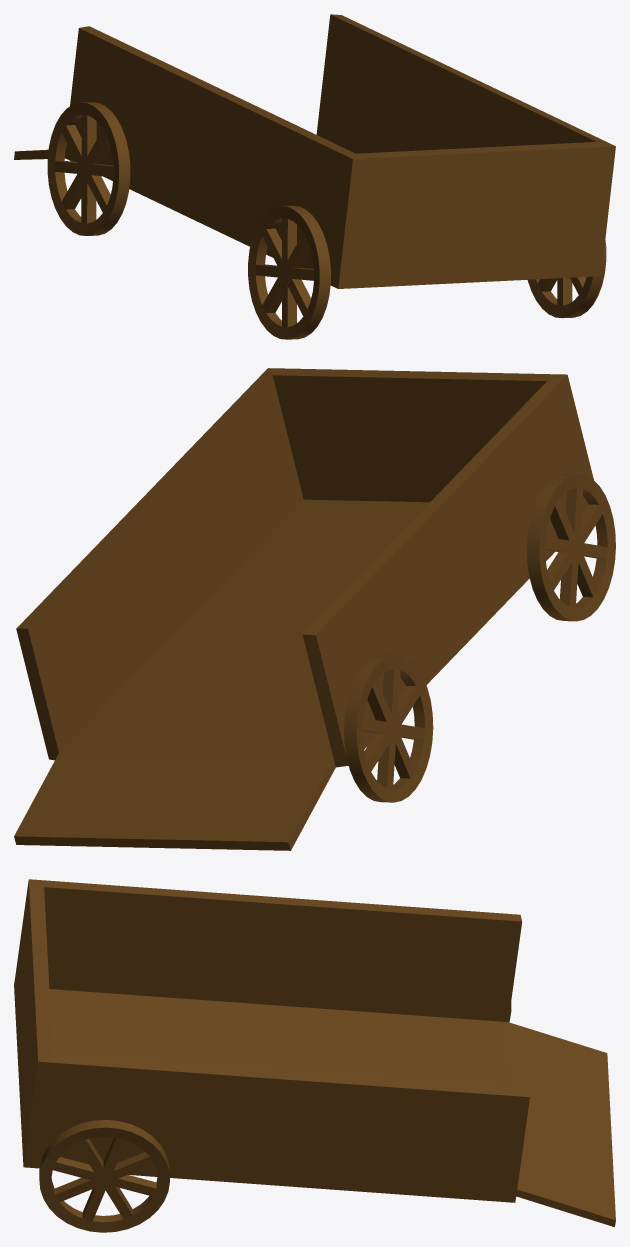
The model's file is TL_Cart_Broken.fbx.
The picture shows the model from 3 angles, top to bottom: view 1: azimuth 30°, elevation 25°; view 2: azimuth 150°, elevation 25°; view 3: azimuth 270°, elevation 25°; orthographic projection. The views are drawn at different scales.
Visible parts, largest first — view 1: Cart_Broken; view 2: Cart_Broken; view 3: Cart_Broken.
Boxes of the visible parts, left/top/right/bottom form: Cart_Broken: left=14, top=14, right=615, bottom=339; Cart_Broken: left=14, top=368, right=615, bottom=850; Cart_Broken: left=14, top=879, right=615, bottom=1232.
Size of the model in its own units: 268 by 197 by 426.
